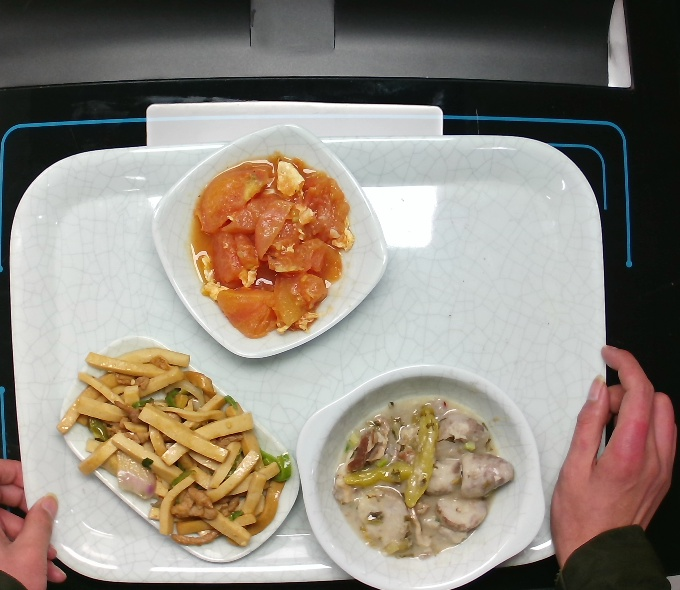wcq-FanQieChaoDan: (187, 153, 353, 343)
wcq-QianYeDouFu: (58, 335, 293, 558)
wcq-YangYu: (325, 383, 518, 575)
